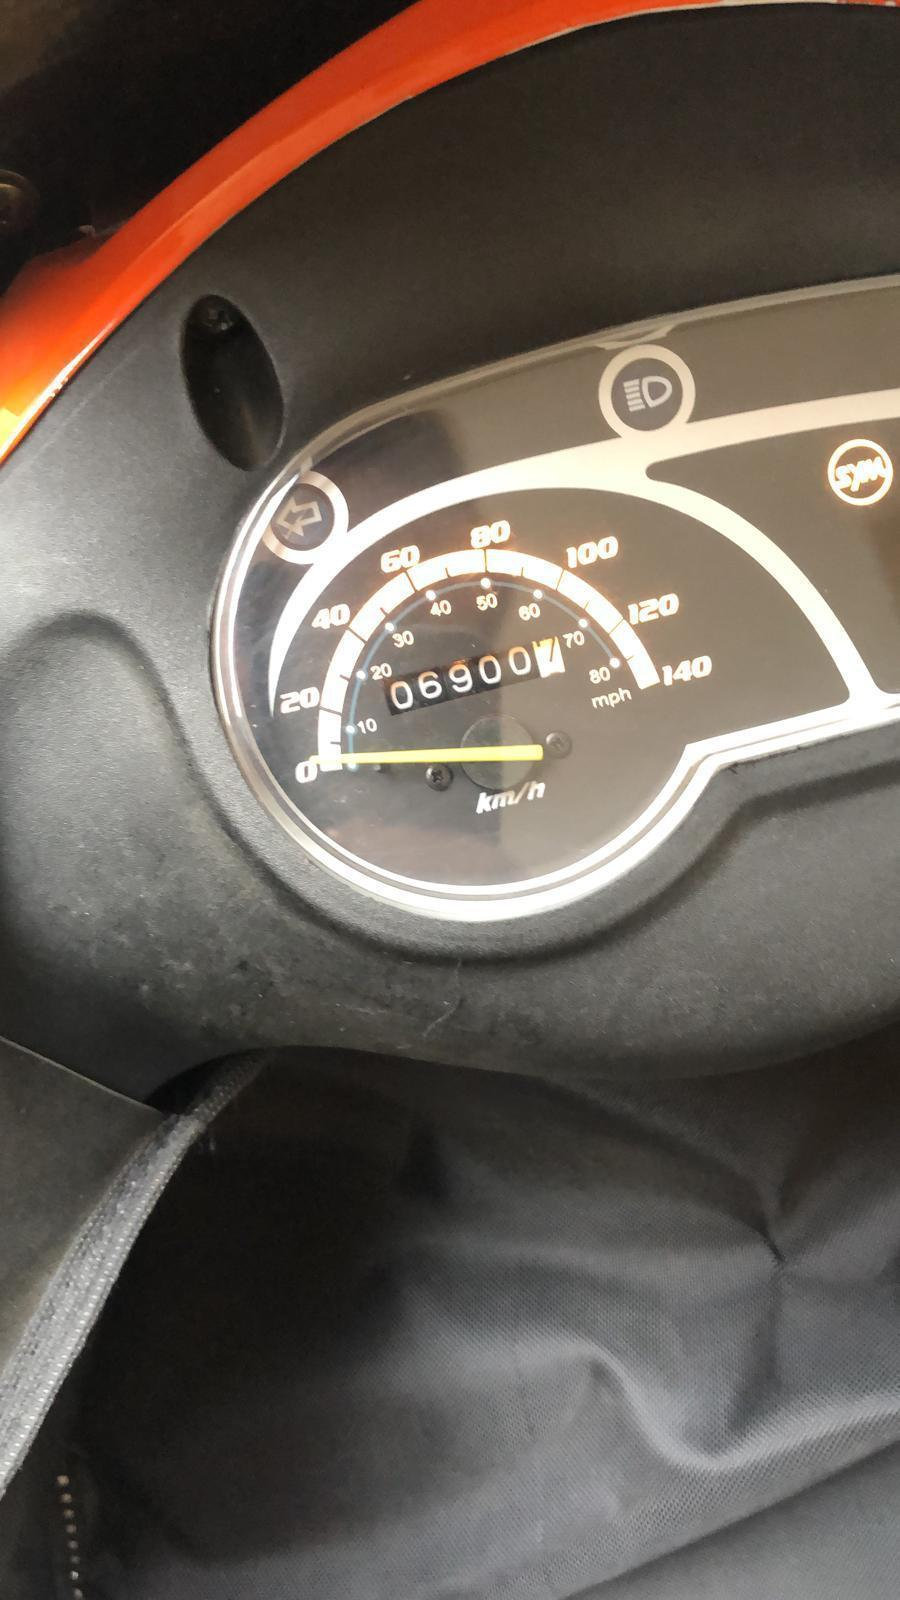0: (505, 642, 532, 680), (387, 679, 414, 712), (476, 653, 501, 686), (379, 664, 393, 678), (404, 630, 414, 646)
2: (370, 663, 380, 682)
3: (392, 631, 402, 651)
6: (414, 666, 444, 705)
7: (533, 634, 557, 667), (563, 632, 573, 649)
9: (447, 663, 473, 697)
odometer: (375, 635, 575, 718)
